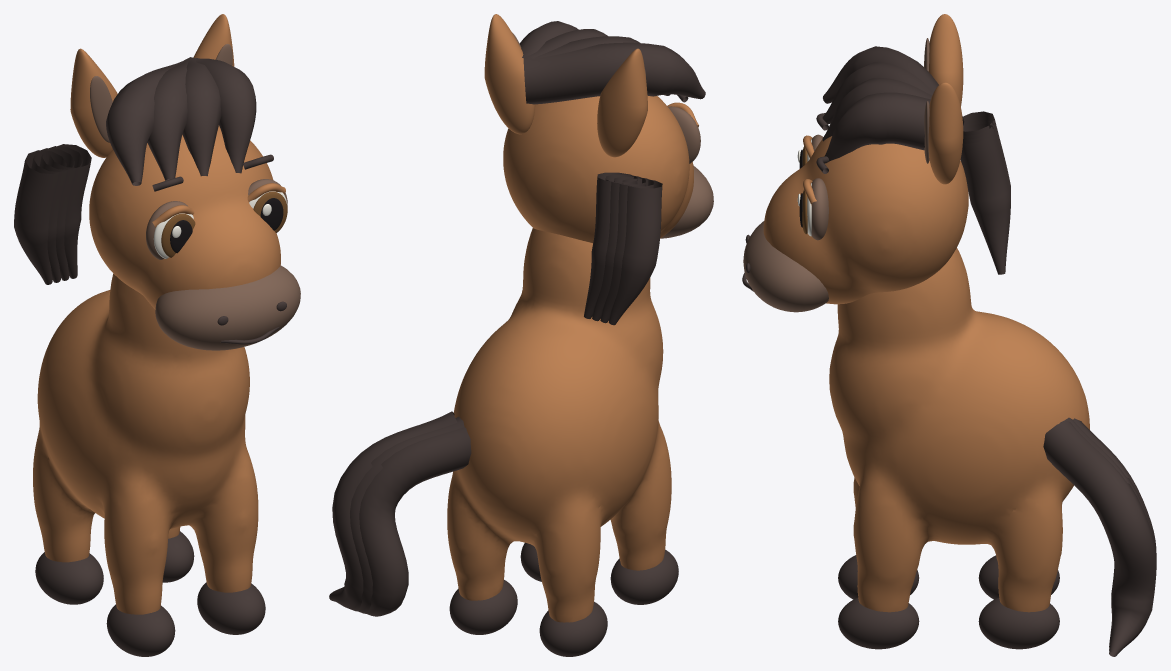
The model's file is eddy.glb.
The picture shows the model from 3 angles, left to right: view 1: azimuth 30°, elevation 25°; view 2: azimuth 150°, elevation 25°; view 3: azimuth 270°, elevation 25°; orthographic projection.
Parts seen in each view (by area): view 1: Sculpted body and legs, Sculpted equine face, Velvet soft muzzle, Broad swept forelock, Layered mane lock.003, Broad swept forelock.003, Broad swept forelock.001, Broad swept forelock.002, Soft square hoof.001, Soft square hoof.002, Soft square hoof, Leaf shaped ear (+11 smaller); view 2: Sculpted body and legs, Sculpted equine face, Full curled tail, Broad swept forelock, Layered mane lock.003, Full curled tail.002, Leaf shaped ear, Leaf shaped ear.001, Soft square hoof.003, Soft square hoof.001, Soft square hoof, Full curled tail.001 (+8 smaller); view 3: Sculpted body and legs, Sculpted equine face, Full curled tail.002, Broad swept forelock.003, Layered mane lock, Velvet soft muzzle, Leaf shaped ear.001, Soft square hoof.003, Soft square hoof.002, Leaf shaped ear, Broad swept forelock, Broad swept forelock.001 (+6 smaller).
Part boxes in pixels (x1,y1,x2,y2): Sculpted body and legs: (33,274,258,614); Sculpted equine face: (89,125,280,309); Velvet soft muzzle: (155,265,300,350); Broad swept forelock: (106,57,195,185); Layered mane lock.003: (14,150,66,284); Broad swept forelock.003: (196,58,256,173); Broad swept forelock.001: (147,58,194,180); Broad swept forelock.002: (182,58,221,176); Soft square hoof.001: (35,552,103,604); Soft square hoof.002: (197,582,265,634); Soft square hoof: (106,604,175,656); Leaf shaped ear: (70,48,117,157); Sculpted body and legs: (447,228,671,622); Sculpted equine face: (503,96,693,242); Full curled tail: (359,427,471,616); Broad swept forelock: (523,42,705,104); Layered mane lock.003: (608,178,662,325); Full curled tail.002: (329,411,457,611); Leaf shaped ear: (597,48,647,157); Leaf shaped ear.001: (484,14,535,134); Soft square hoof.003: (449,580,517,634); Soft square hoof.001: (539,601,607,656); Soft square hoof: (610,549,678,604); Full curled tail.001: (350,416,464,614); Sculpted body and legs: (829,248,1089,612); Sculpted equine face: (763,136,968,304); Full curled tail.002: (1043,421,1156,656); Broad swept forelock.003: (824,92,930,161); Layered mane lock: (960,123,1010,274); Velvet soft muzzle: (743,221,828,312); Leaf shaped ear.001: (928,82,963,184); Soft square hoof.003: (978,597,1059,649); Soft square hoof.002: (838,597,919,649); Leaf shaped ear: (928,14,963,106); Broad swept forelock: (823,46,964,124); Broad swept forelock.001: (822,62,933,124).
Size of the model in its own units: 1.11 by 2.35 by 1.53.
